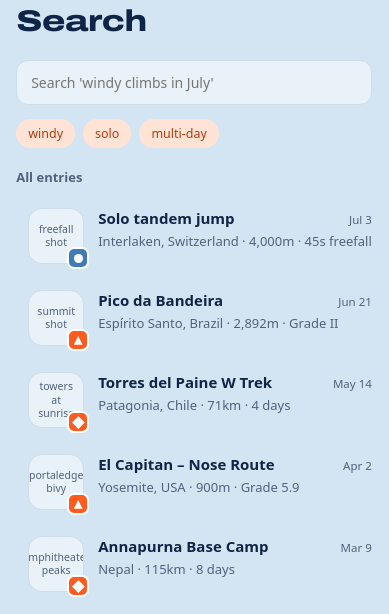
it: SearchScreen › applies AI-parsed (fallback keyword, since AI is unavailable in jsdom) results once the debounce window elapses
This screenshot has width=389, height=614.
Type "nepal" into the search field. click: (194, 82)
box: [16,60,372,104]
Wait 250 ms
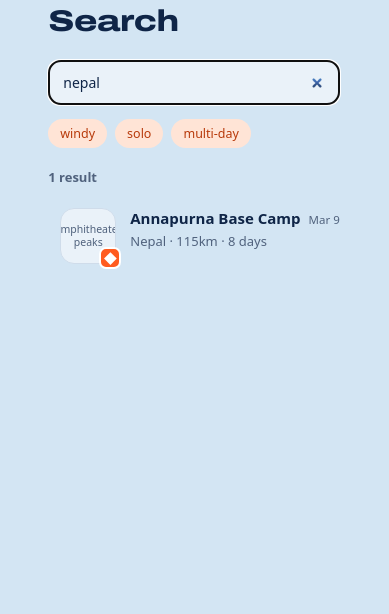
Expected: the text "Annapurna Base Camp" is shown, [130,208,301,230]
Now the button "Solo tandem jump" is gone
